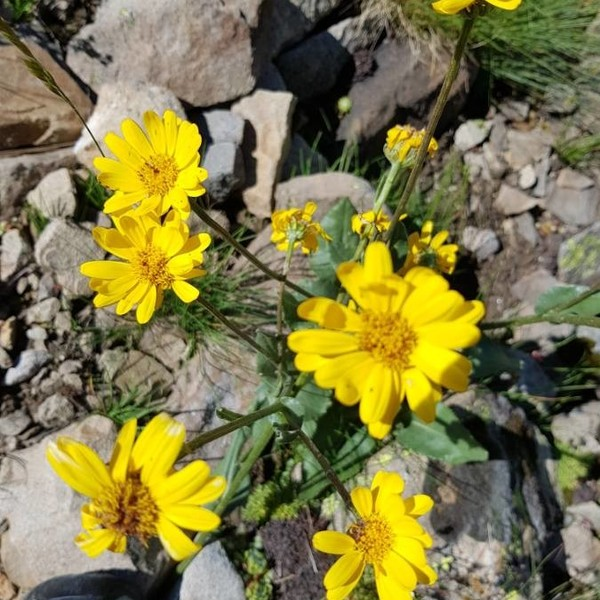obstacle: (69, 81, 504, 559)
